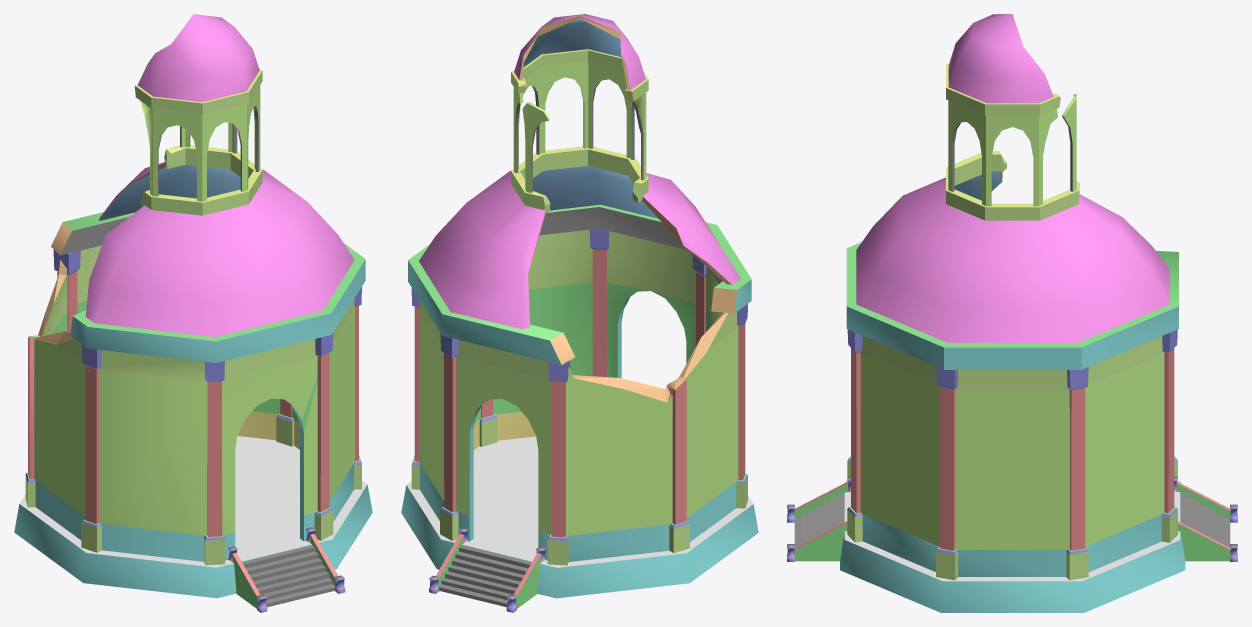
3 renders of one model, left to right at view 1: azimuth 30°, elevation 25°; view 2: azimuth 150°, elevation 25°; view 3: azimuth 270°, elevation 25°, orthographic. The views are drawn at different scales.
Parts seen in each view (by area): view 1: O_E_WT_H; view 2: O_E_WT_H; view 3: O_E_WT_H.
Boxes of the visible parts, x1,y1,x2,y2 form: O_E_WT_H: (14, 14, 372, 612); O_E_WT_H: (401, 14, 758, 612); O_E_WT_H: (787, 14, 1237, 612).
Size of the model in its own units: 6.07 by 10.2 by 7.91.
